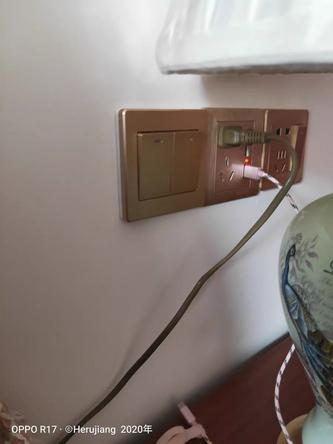switch: (135, 128, 179, 203), (172, 127, 206, 198)
